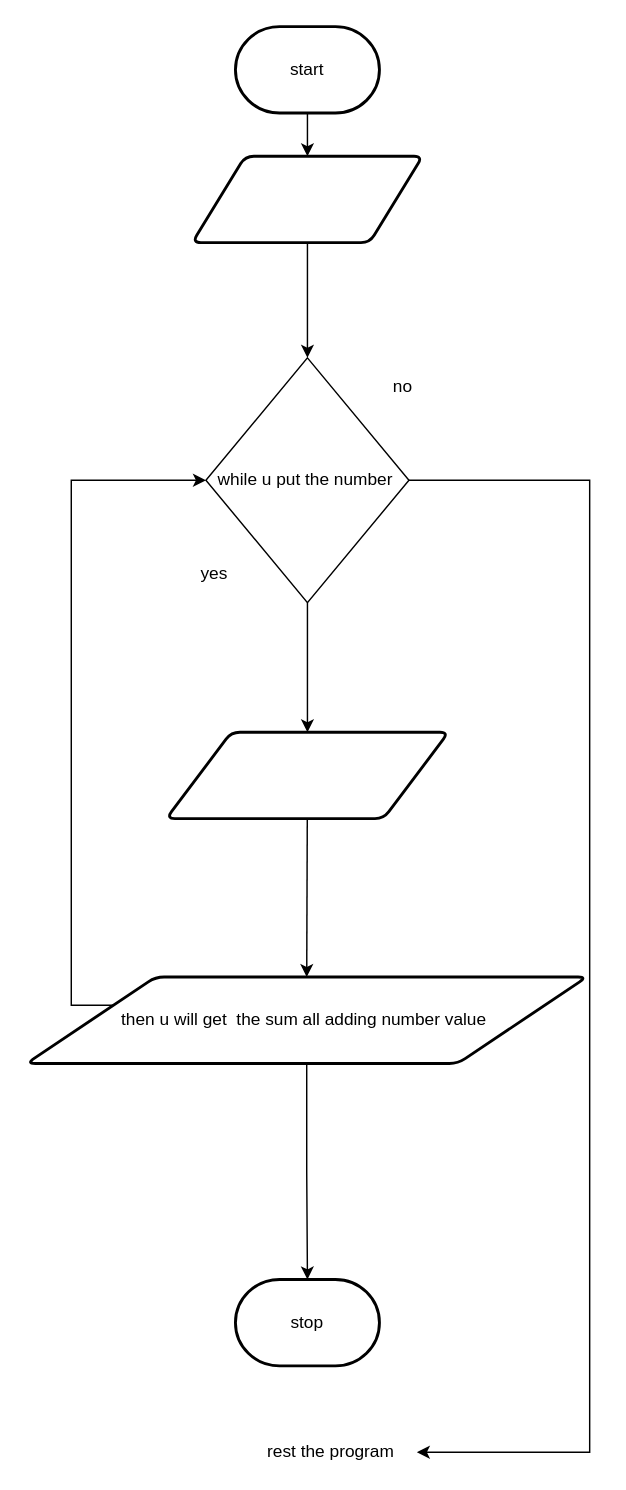
The diagram is 626 pixels wide and 1490 high, and some of its shapes have lost their labels. The centre of each missing label's shape, as x and y in pixels:
"Get number_of_user" goes at [306,198].
"then u will do the math" goes at [306,774].
